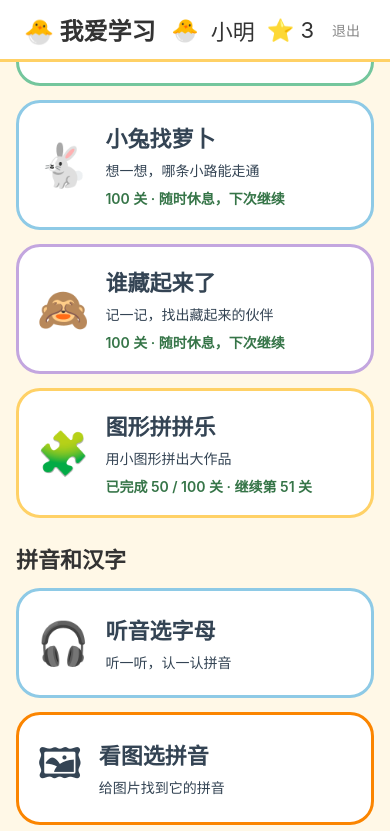
Test case: GamePage › offers level 51 for a saved fifty-level shapes course
(page scrolled)
Click the button "图形拼拼乐". click: (195, 453)
box: top-left (16, 388), bottom-right (374, 518)
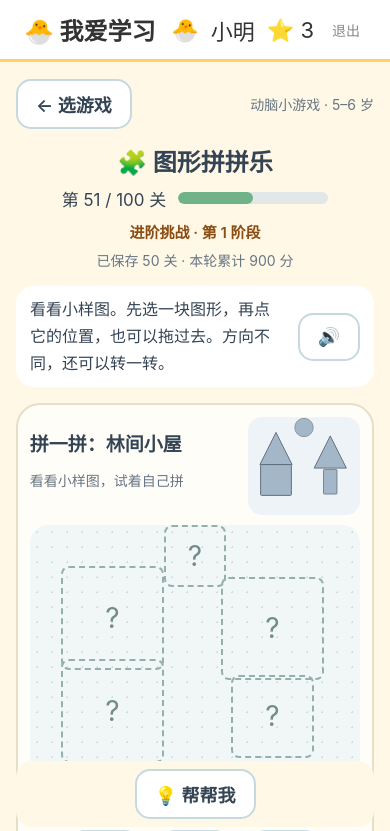
Expected: the text "第 51 / 100 关" is shown, top-left (62, 186), bottom-right (166, 211)
Expected: the text "已保存 50 关 · 本轮累计 900 分" is shown, top-left (96, 252), bottom-right (294, 269)
